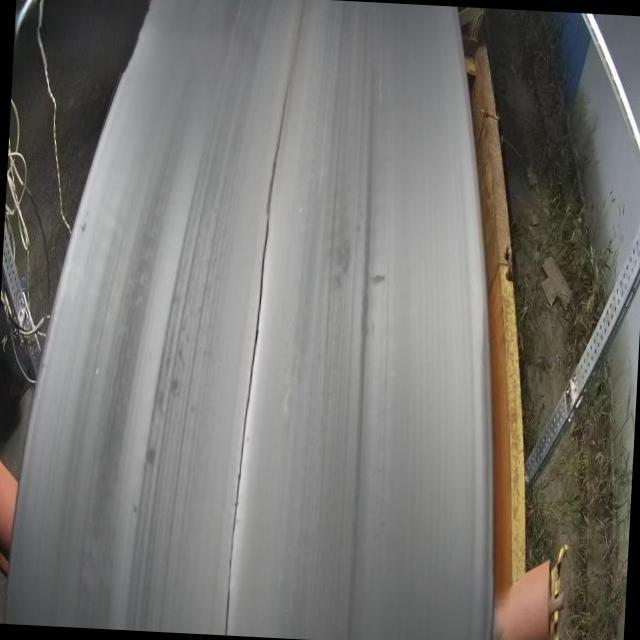Tear: (215, 88, 298, 640)
